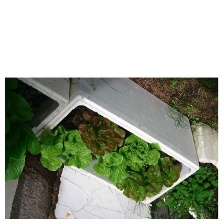foam_box: (24, 77, 202, 207), (159, 119, 218, 219), (5, 77, 72, 151)
